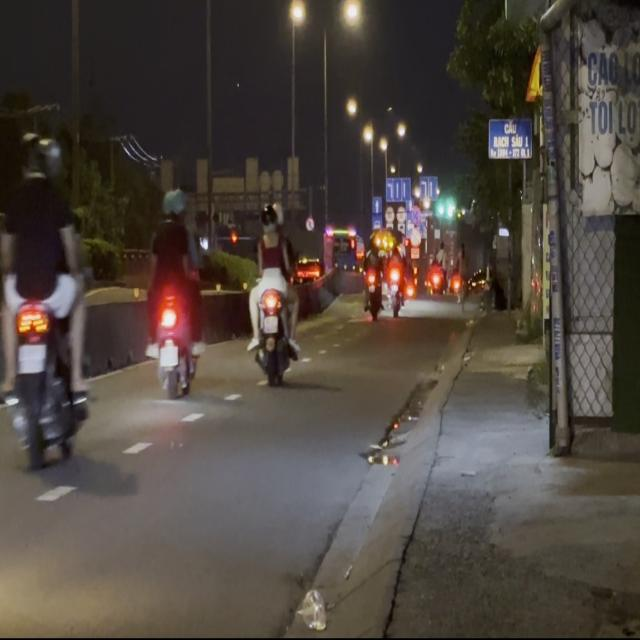helmet: (38, 134, 66, 188), (18, 130, 42, 181)
licenseplate: (1, 127, 91, 472)
nohelmet: (16, 343, 46, 372)
